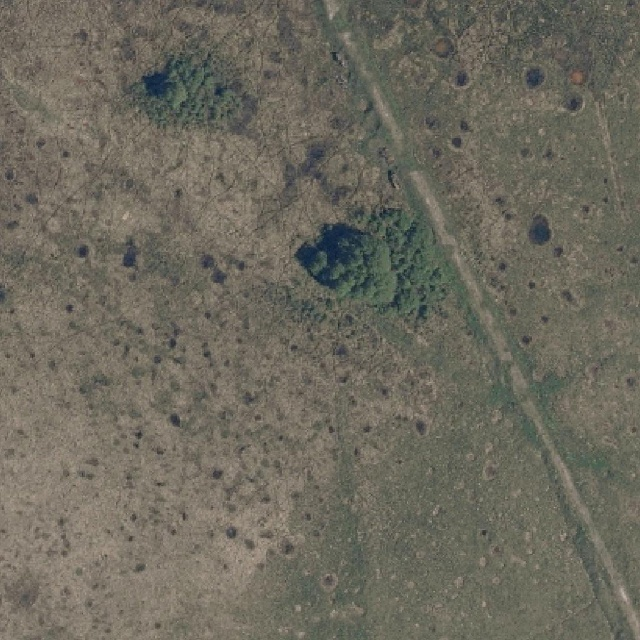vegetation: (304, 211, 441, 313), (137, 55, 241, 124)
